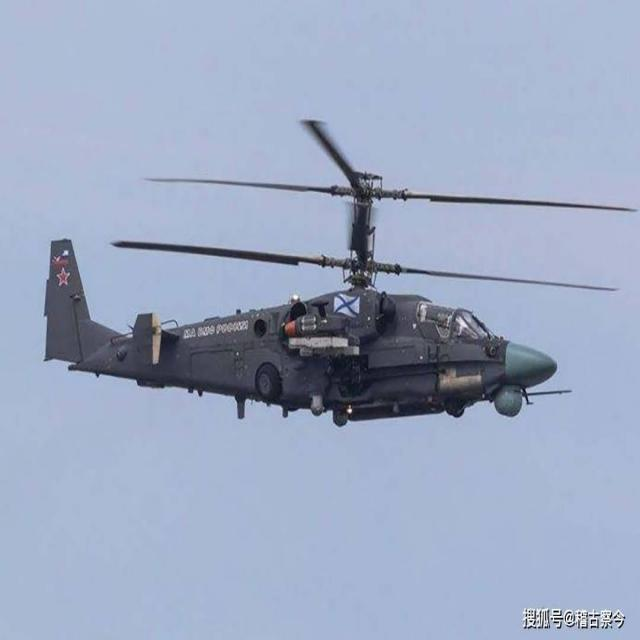MIL_HELO: (36, 110, 640, 428)
